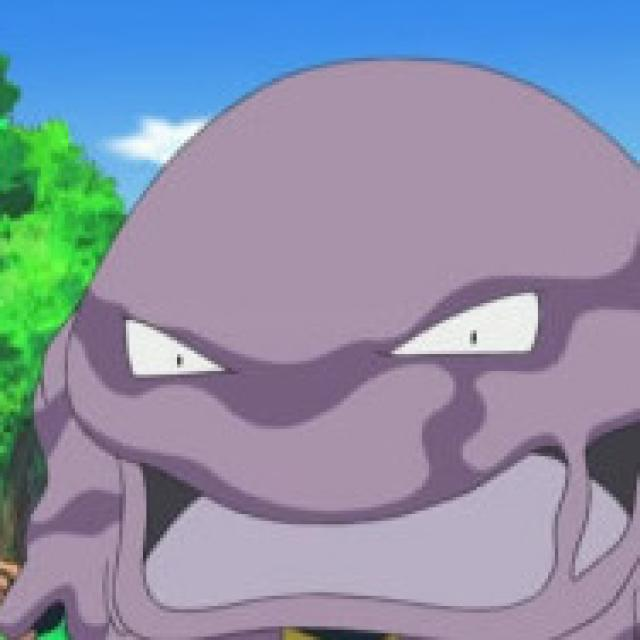Muk: (16, 42, 640, 640)
